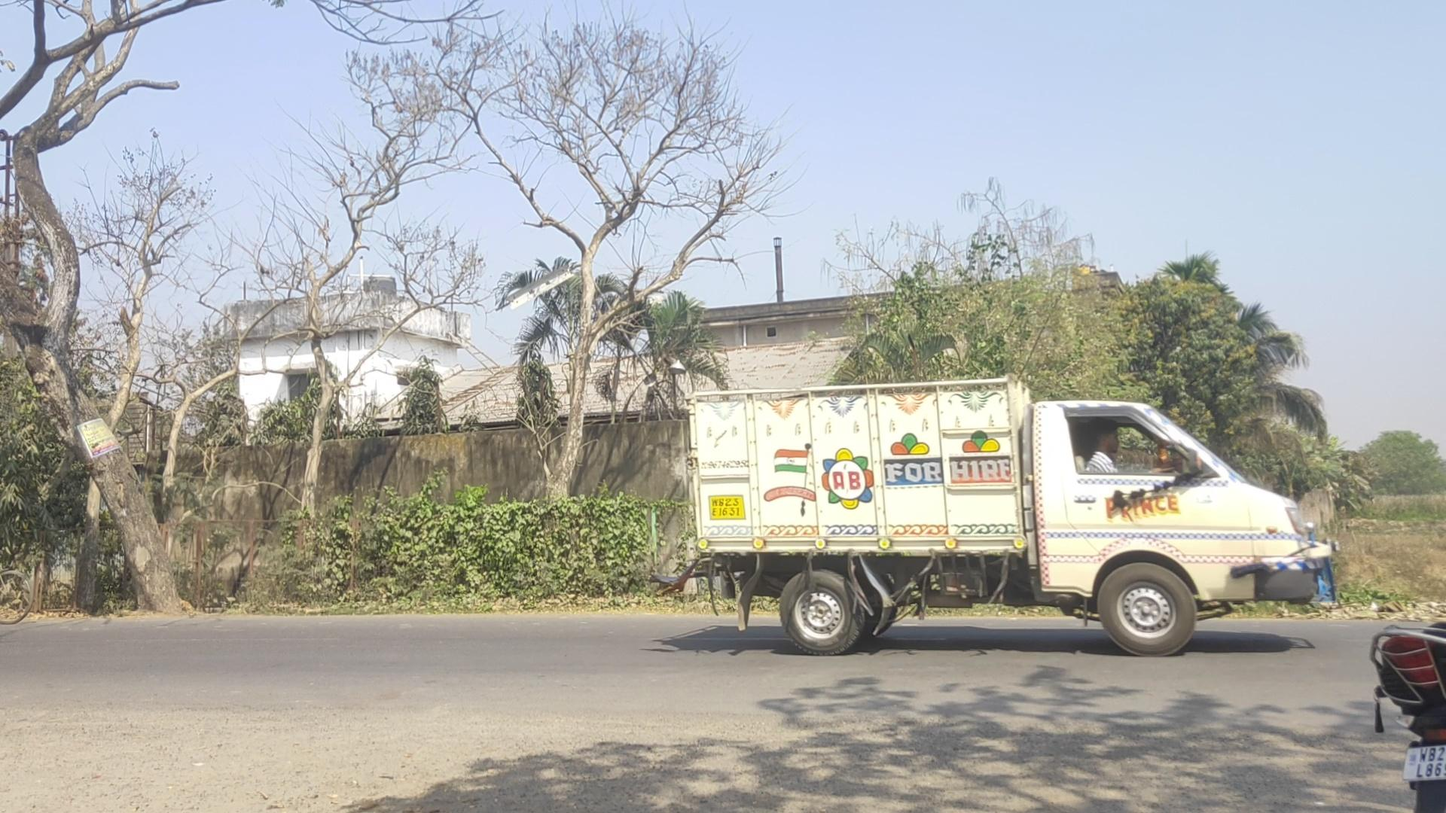van: (679, 373, 1341, 659)
